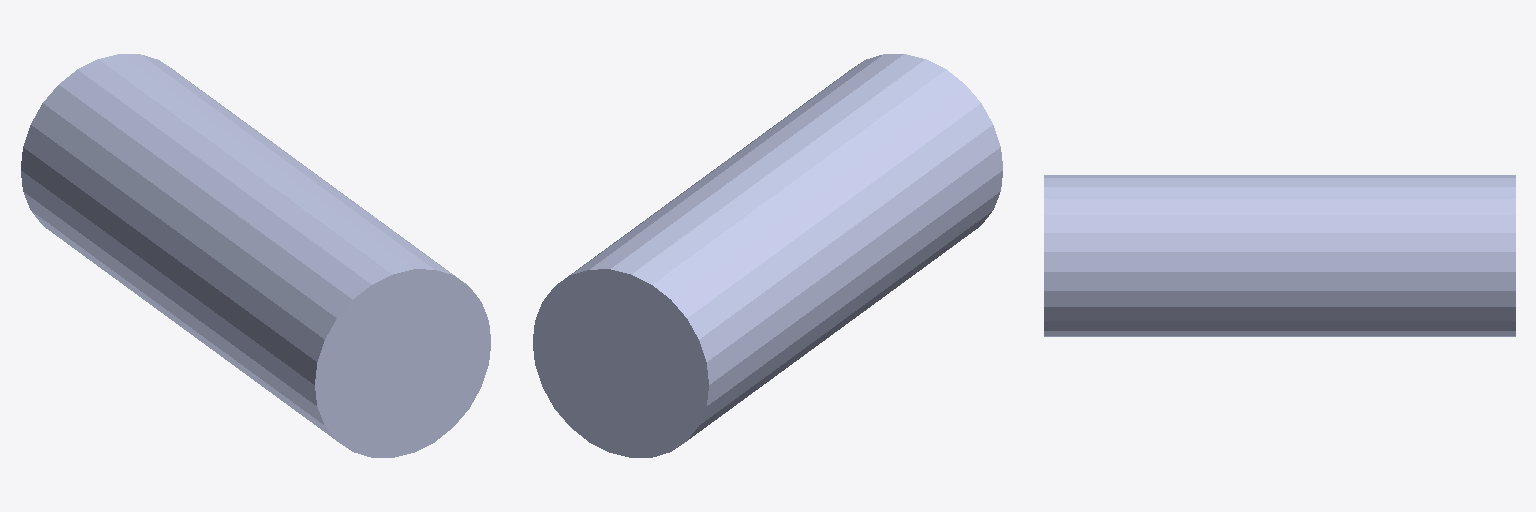
URDF robot description (Part1):
<robot
  name="Part1">
  <link
    name="Part1">
    <inertial>
      <origin
        xyz="-5.0676E-19 -0.075 4.59227382683391E-18"
        rpy="0 0 0" />
      <mass
        value="0.31856" />
      <inertia
        ixx="0.000651131519931267"
        ixy="0"
        ixz="0"
        iyy="0.000107672433335014"
        iyz="3.32761725244139E-20"
        izz="0.000651131519931267" />
    </inertial>
    <visual>
      <origin
        xyz="0 0 0"
        rpy="1.5707963267949 0 0" />
      <geometry>
        <mesh
          filename="package://arm_desciption/meshes/Part1.STL" />
      </geometry>
      <material
        name="">
        <color
          rgba="0.79216 0.81961 0.93333 1" />
      </material>
    </visual>
    <collision>
      <origin
        xyz="0 0 0"
        rpy="1.5707963267949 0 0" />
      <geometry>
        <mesh
          filename="package://arm_desciption/meshes/Part1.STL" />
      </geometry>
    </collision>
  </link>
</robot>

--- What the picture shows (computed from the rendered views, not written in the file) ---
The picture shows the robot from 3 angles, left to right: view 1: azimuth 30°, elevation 25°; view 2: azimuth 150°, elevation 25°; view 3: azimuth 270°, elevation 25°; orthographic projection.
Robot: Part1 — 1 links, 0 joints (none); root link Part1; default pose: all joints at 0.
Links seen in each view (by area): view 1: Part1; view 2: Part1; view 3: Part1.
Boxes of the visible links, x1,y1,x2,y2 form: Part1: [21, 54, 490, 457]; Part1: [533, 54, 1002, 457]; Part1: [1044, 175, 1515, 336].
Size in the robot's own frame: 0.052 by 0.15 by 0.0516 metres.
Meshes: 1 distinct files referenced, 1 mesh visuals loaded (1 binary STL).